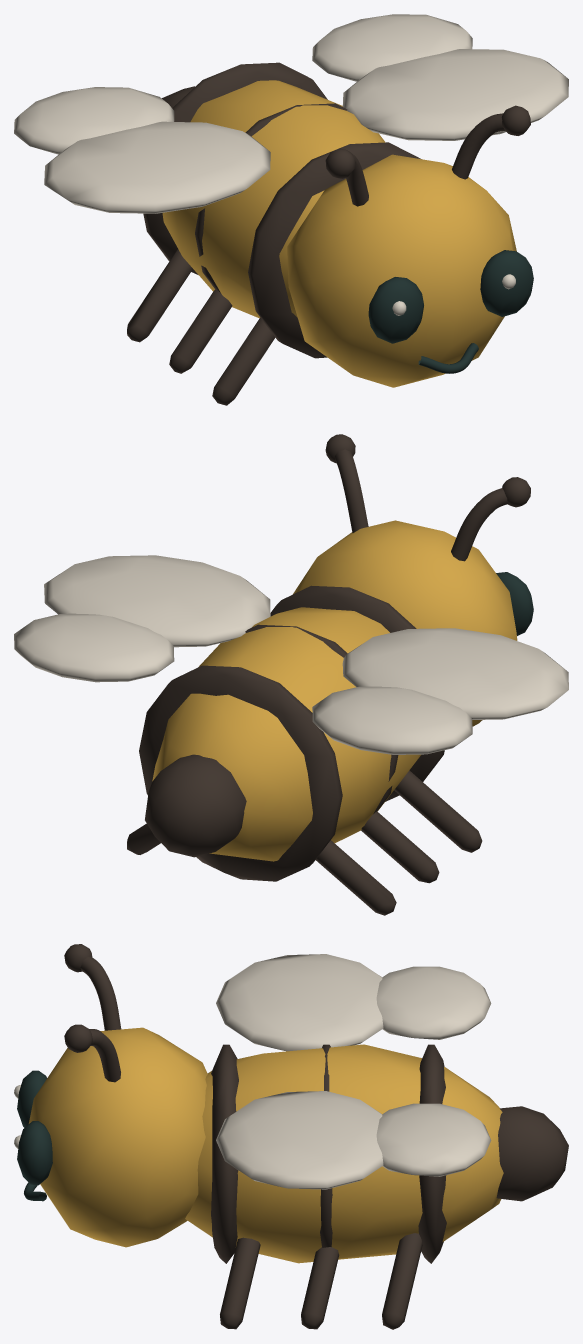
The model's file is org_honeybee.glb.
The picture shows the model from 3 angles, top to bottom: view 1: azimuth 30°, elevation 25°; view 2: azimuth 150°, elevation 25°; view 3: azimuth 270°, elevation 25°; orthographic projection. The views are drawn at different scales.
Parts seen in each view (by area): view 1: Head, Body, Wing_R, Wing_L, Eye_R, Eye_L; view 2: Body, Wing_R, Wing_L, Head, Tail, Eye_R; view 3: Body, Head, Wing_L, Wing_R, Tail, Eye_L, Eye_R.
Part boxes in pixels (x1,y1,x2,y2): Head: [287, 105, 530, 387]; Body: [127, 62, 421, 405]; Wing_R: [14, 87, 270, 213]; Wing_L: [312, 14, 568, 140]; Eye_R: [368, 277, 423, 343]; Eye_L: [480, 250, 533, 316]; Body: [127, 585, 482, 915]; Wing_R: [312, 628, 568, 754]; Wing_L: [14, 555, 270, 682]; Head: [293, 434, 530, 726]; Tail: [145, 754, 246, 857]; Eye_R: [496, 572, 533, 635]; Body: [185, 1044, 503, 1329]; Head: [24, 944, 207, 1247]; Wing_L: [216, 1091, 491, 1189]; Wing_R: [216, 954, 491, 1051]; Tail: [496, 1106, 568, 1201]; Eye_L: [14, 1121, 52, 1185]; Eye_R: [14, 1070, 46, 1127].
Bounding box in the file's own units: 0.6037 × 0.35 × 0.6124.
